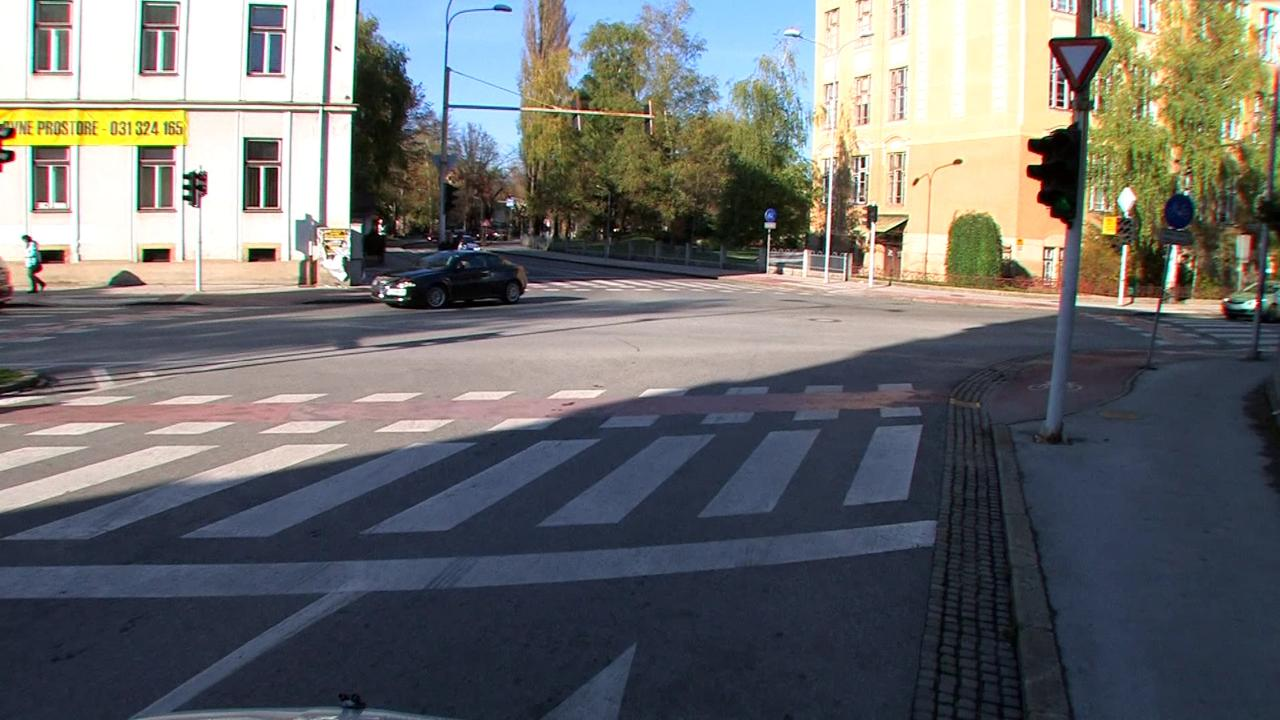Triangle: (1050, 36, 1108, 90)
